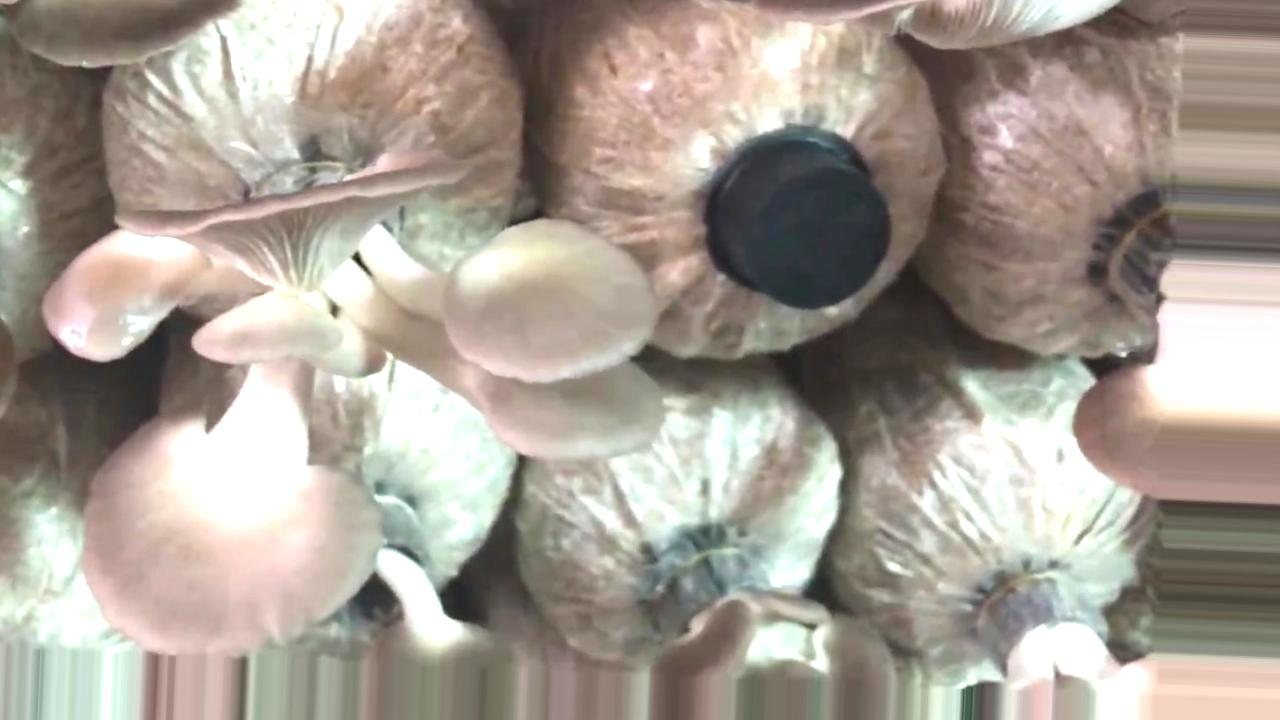nam: (39, 143, 660, 660)
